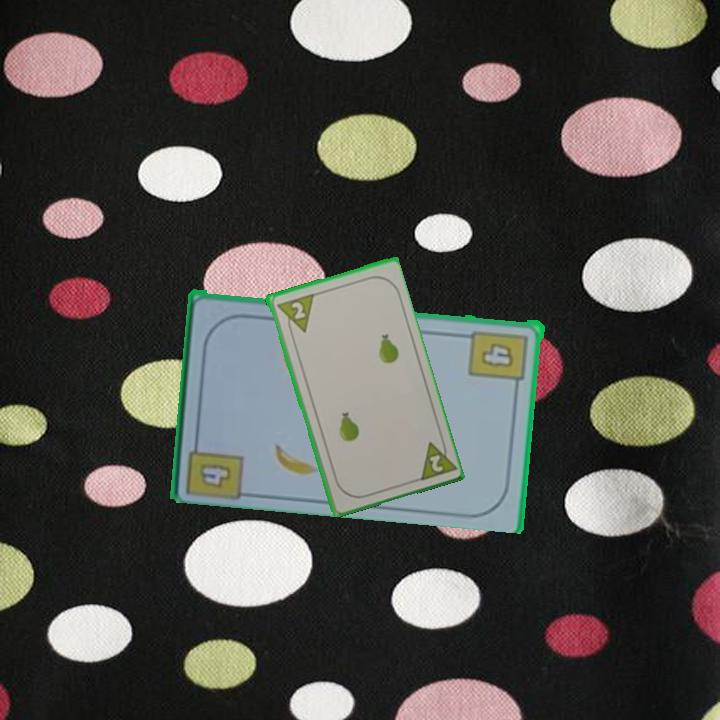2p: (414, 434, 457, 484), (273, 290, 316, 338)
4b: (183, 430, 248, 499), (467, 326, 532, 392)
